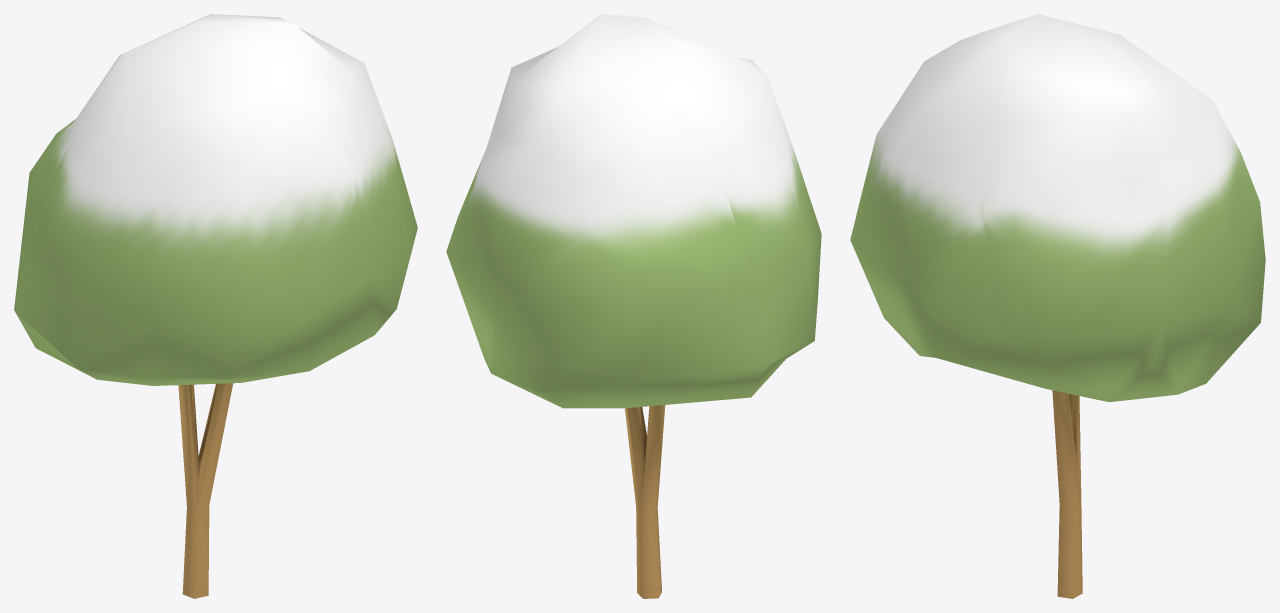
The picture shows the model from 3 angles, left to right: view 1: azimuth 30°, elevation 25°; view 2: azimuth 150°, elevation 25°; view 3: azimuth 270°, elevation 25°; orthographic projection. The views are drawn at different scales.
Parts seen in each view (by area): view 1: wPlod; view 2: wPlod; view 3: wPlod.
Boxes of the visible parts, x1,y1,x2,y2 form: wPlod: [14, 14, 417, 598]; wPlod: [446, 14, 821, 598]; wPlod: [850, 14, 1265, 598].
Bounding box in the file's own units: 12.47 × 19.73 × 12.98.
Materials: 1 (1 with a texture image).
